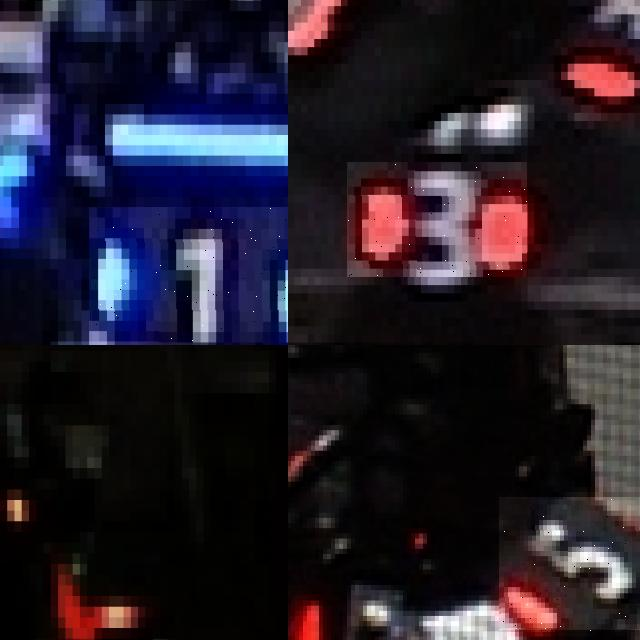B1: (89, 207, 288, 345)
R3: (348, 162, 528, 277), (574, 0, 640, 112)
R5: (499, 497, 640, 631)
